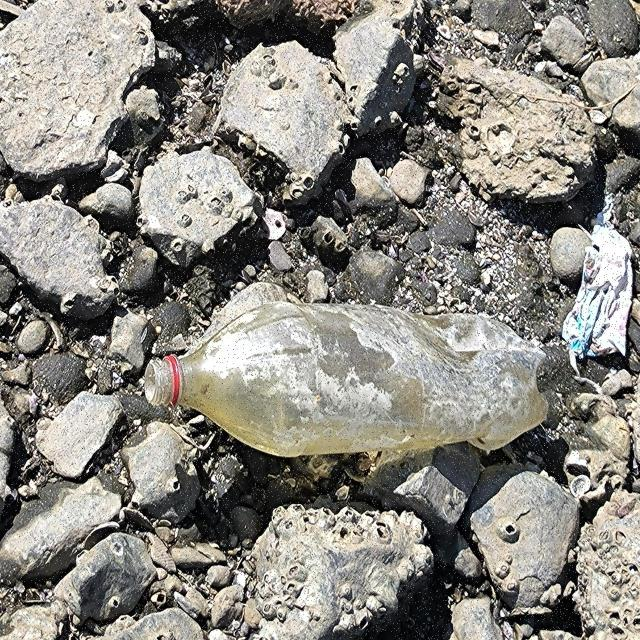plastic_waste: (145, 301, 552, 459), (562, 225, 635, 379)
